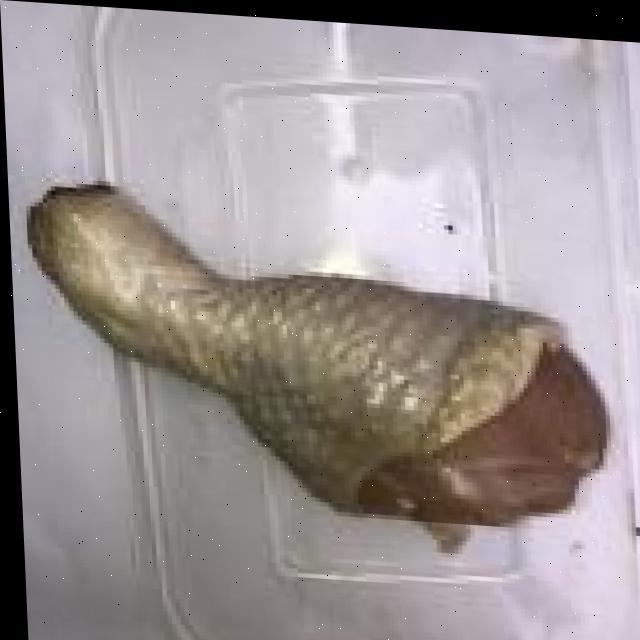leg: (15, 176, 612, 536)
